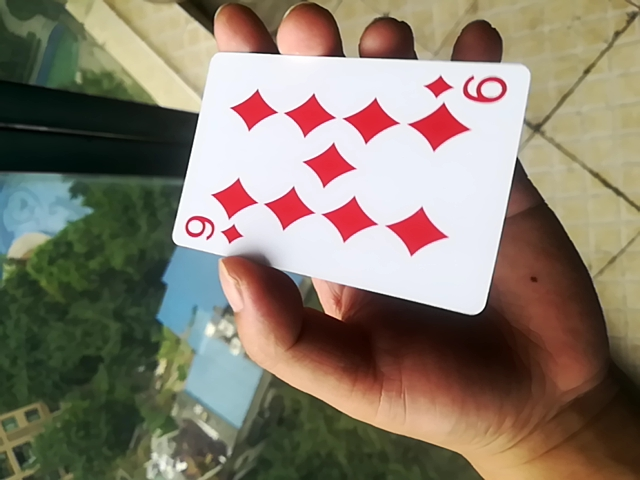fk 9: (169, 48, 536, 324)
